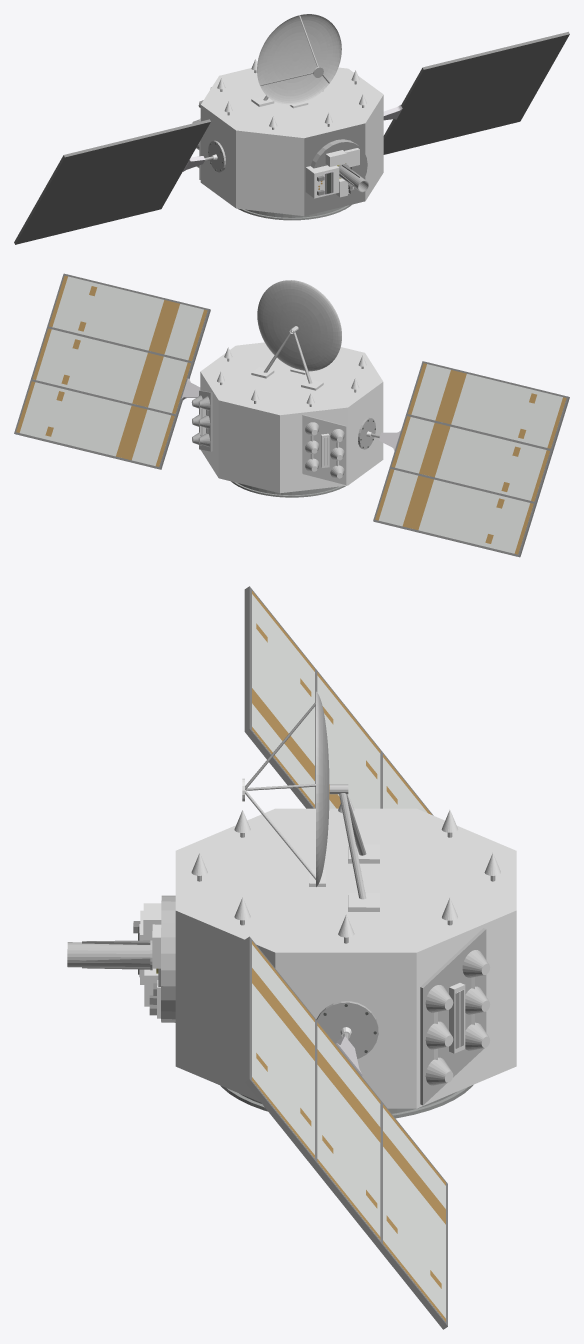
Rendered from dscovr.glb.
The picture shows the model from 3 angles, top to bottom: view 1: azimuth 30°, elevation 25°; view 2: azimuth 150°, elevation 25°; view 3: azimuth 270°, elevation 25°; orthographic projection. The views are drawn at different scales.
Parts seen in each view (by area): view 1: Layer_0; view 2: Layer_0; view 3: Layer_0.
Boxes of the visible parts, <box> form: Layer_0: <box>14,14,569,244</box>; Layer_0: <box>14,273,569,557</box>; Layer_0: <box>67,586,516,1329</box>.
Size of the model in its own units: 266 by 96.42 by 103.
5 materials, 5 textured.
